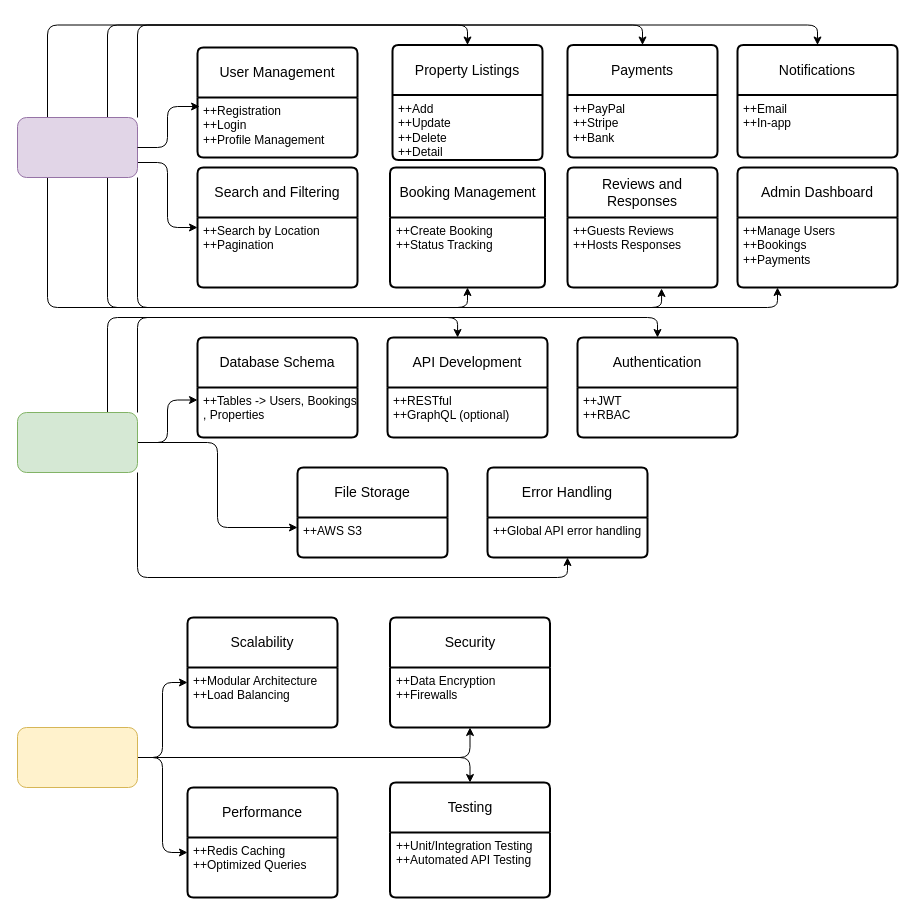
The diagram is 916 pixels wide and 915 high, and some of its shapes have lost their labels. The shapes that lost their labels are listed below. From the top down, each one's centre as x and y in pixels, then its label:
At point 77,147: "Core Functionalities".
At point 77,442: "Technical Requirement".
At point 77,757: "Non-Functional Requirement".
